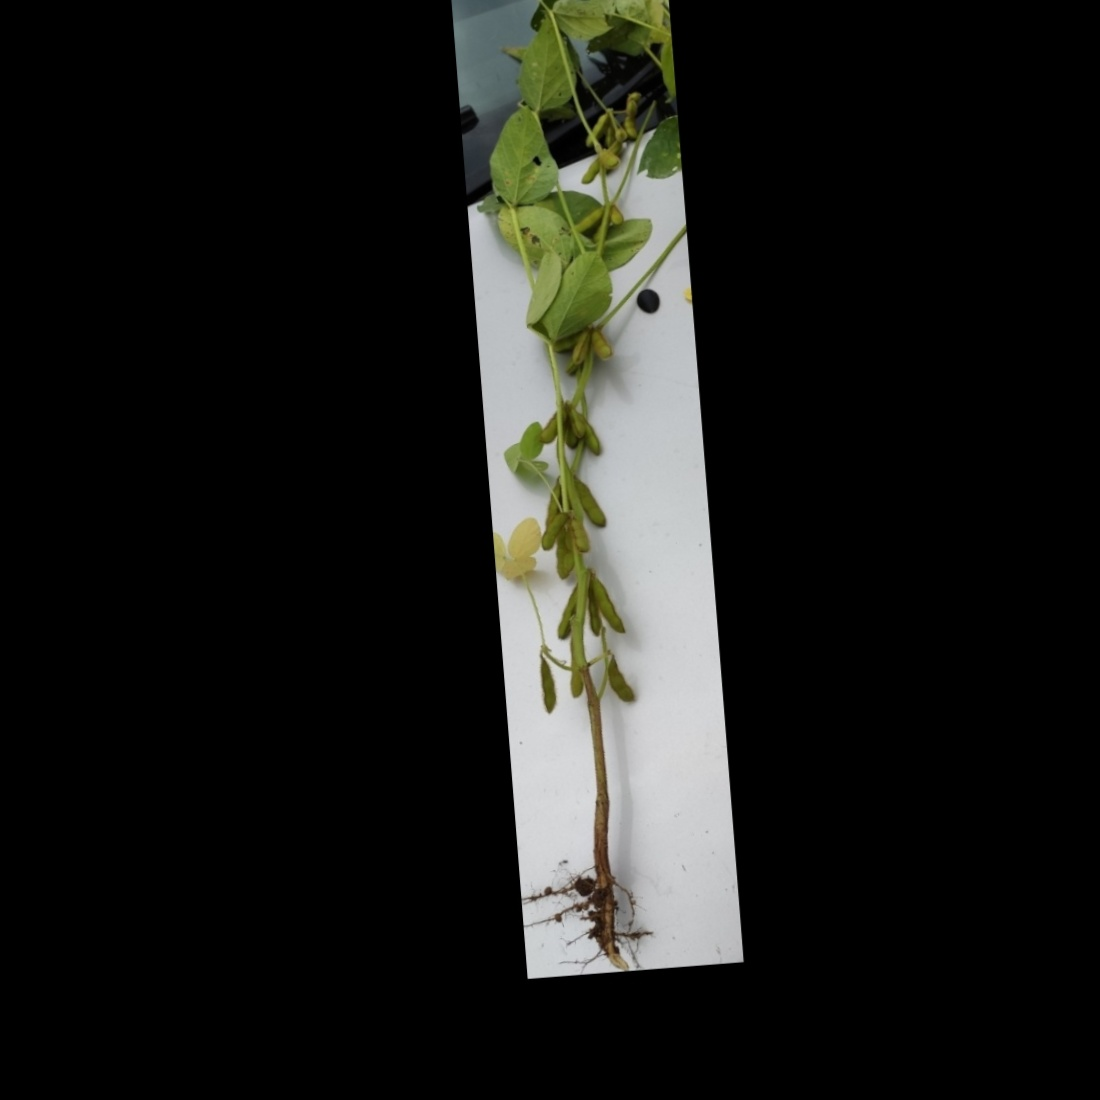pod: (591, 577, 626, 639), (573, 476, 611, 529), (602, 653, 637, 709), (535, 510, 571, 553), (536, 654, 559, 717), (583, 108, 612, 148), (587, 326, 614, 363)
soy: (463, 0, 736, 946)
